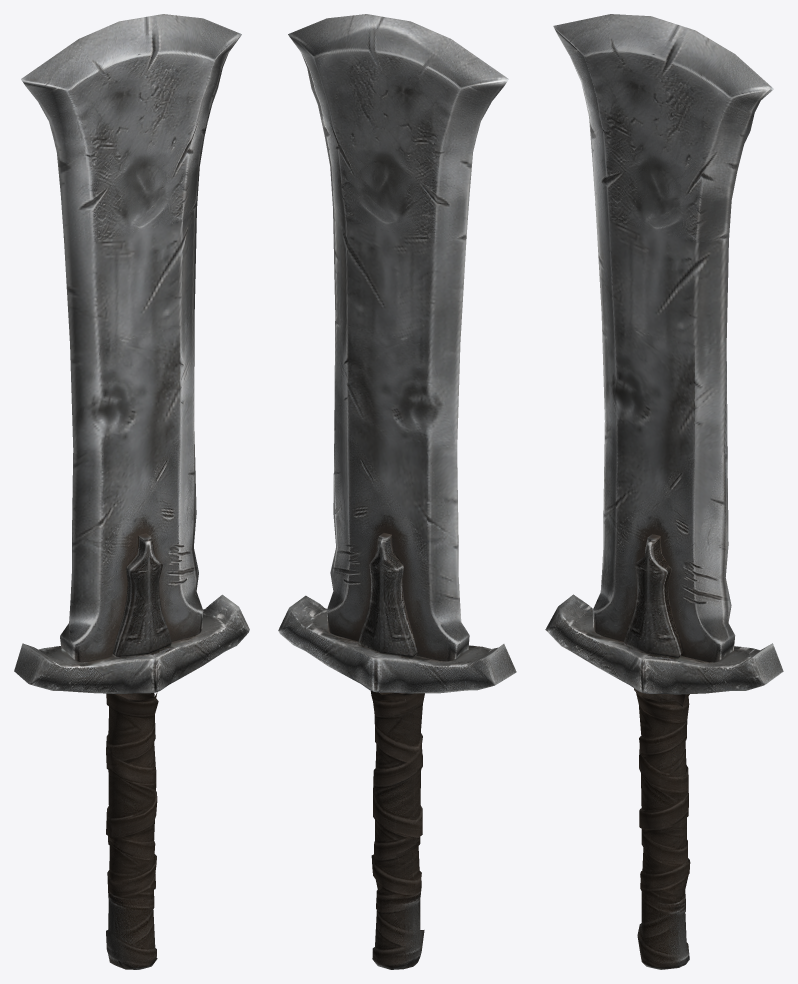
The model's file is Meshy_AI_Scarred_Sentinel_1018120117_texture.fbx.
3 views of the same model, side by side, from view 1: azimuth 30°, elevation 25°; view 2: azimuth 150°, elevation 25°; view 3: azimuth 330°, elevation 25° (orthographic).
Parts seen in each view (by area): view 1: Mesh_0; view 2: Mesh_0; view 3: Mesh_0.
Boxes of the visible parts, box(x1,y1,x2,y2) form: Mesh_0: box(14, 14, 249, 969); Mesh_0: box(278, 14, 516, 969); Mesh_0: box(545, 14, 783, 969).
Size of the model in its own units: 23.49 by 95.26 by 8.25.
1 material, 1 textured.
